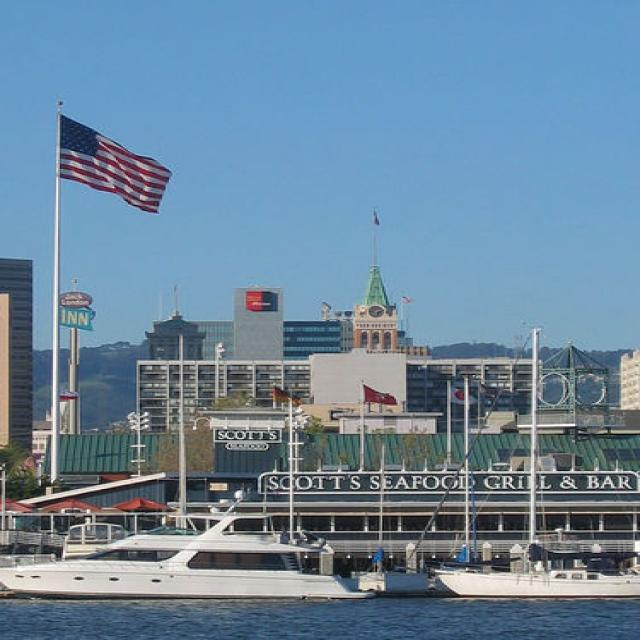boat: (411, 326, 639, 598), (1, 509, 376, 602)
